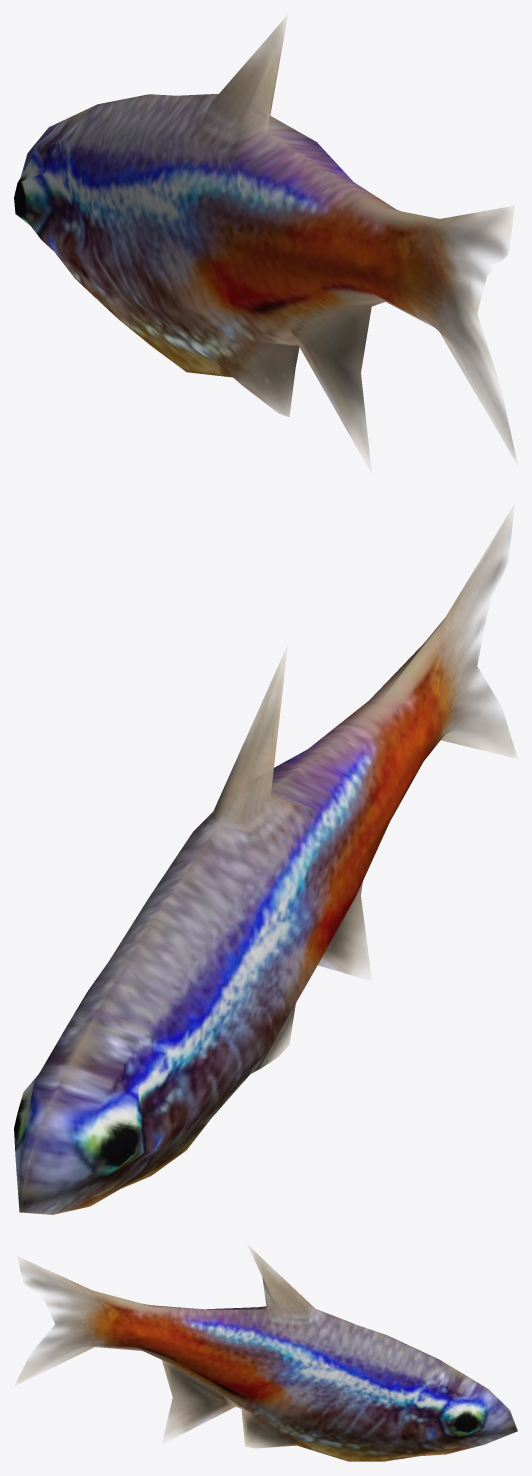
File: neon_tetra.glb
3 renders of one model, top to bottom at view 1: azimuth 30°, elevation 25°; view 2: azimuth 150°, elevation 25°; view 3: azimuth 270°, elevation 25°, orthographic. The views are drawn at different scales.
Parts seen in each view (by area): view 1: Cube; view 2: Cube; view 3: Cube.
Boxes of the visible parts, x1,y1,x2,y2 form: Cube: (14,17,516,465); Cube: (14,506,516,1214); Cube: (15,1246,517,1461).
Size of the model in its own units: 0.8473 by 2.83 by 5.92.
1 material, 1 textured.
